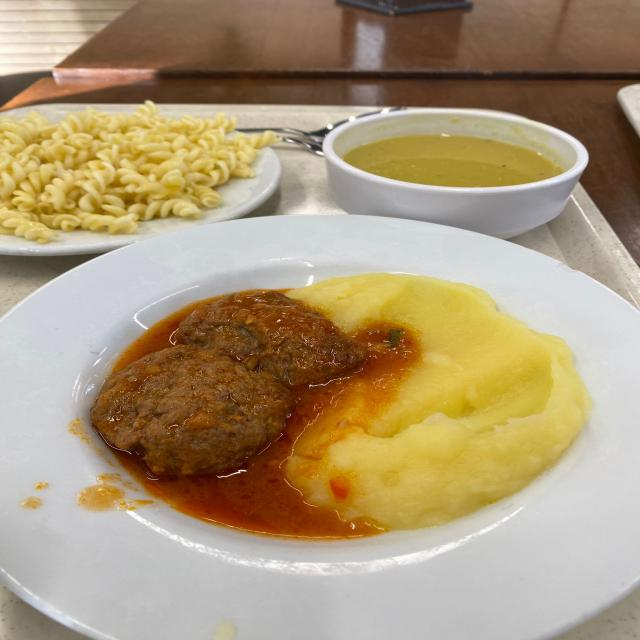ana_yemek: (69, 244, 596, 560)
